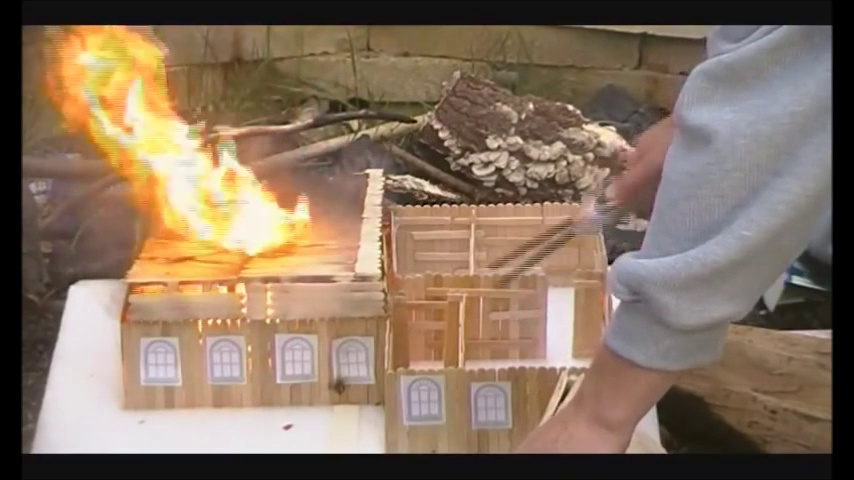fire: (41, 25, 306, 252)
